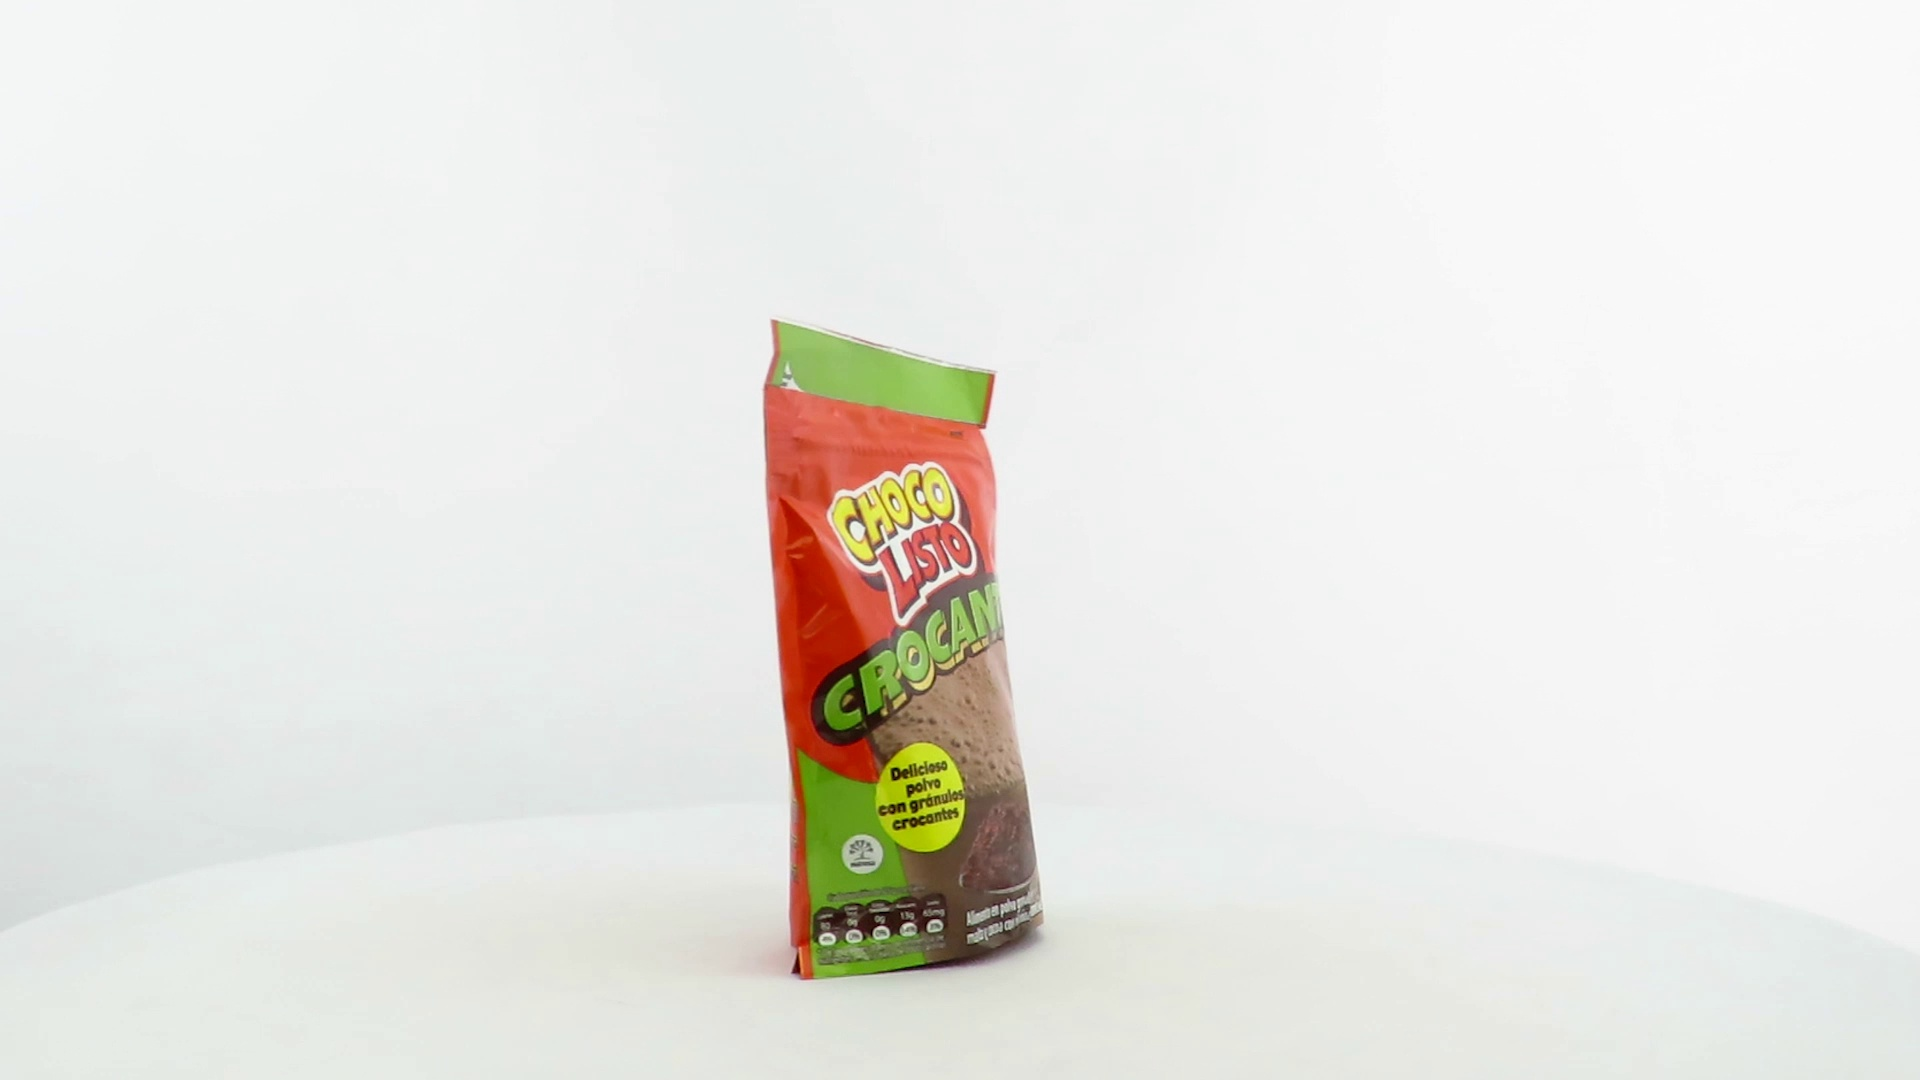COL0170102DYP10000: (758, 309, 1050, 986)
